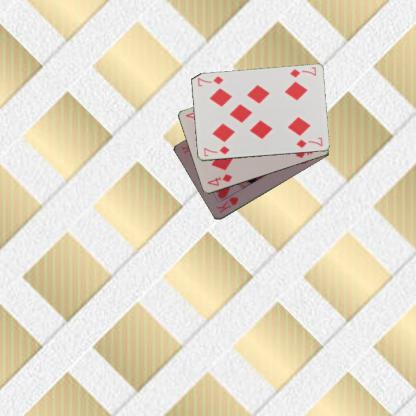4d: (204, 172, 234, 187)
7d: (201, 143, 231, 158), (287, 64, 317, 78)
Kh: (213, 195, 240, 215)
